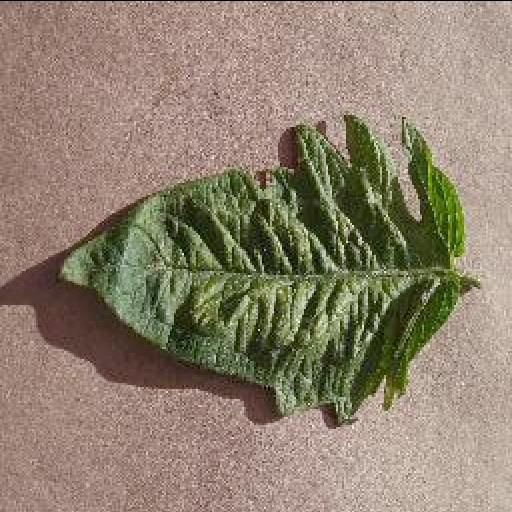disease_tomato: (53, 112, 467, 418)
